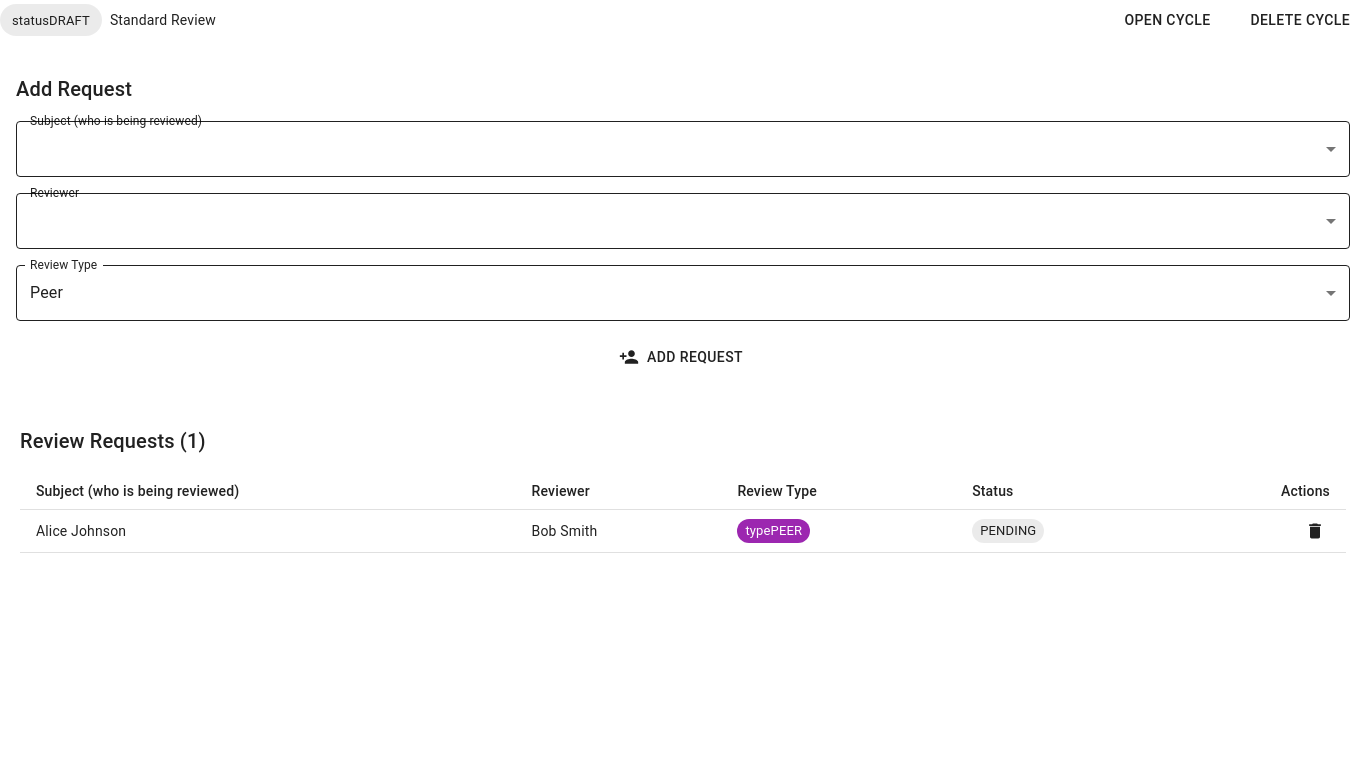
ReviewCycleDetailClient › opens open cycle confirm dialog
Click the button "Open Cycle". click: x=1167, y=20
box: left=1108, top=0, right=1226, bottom=40
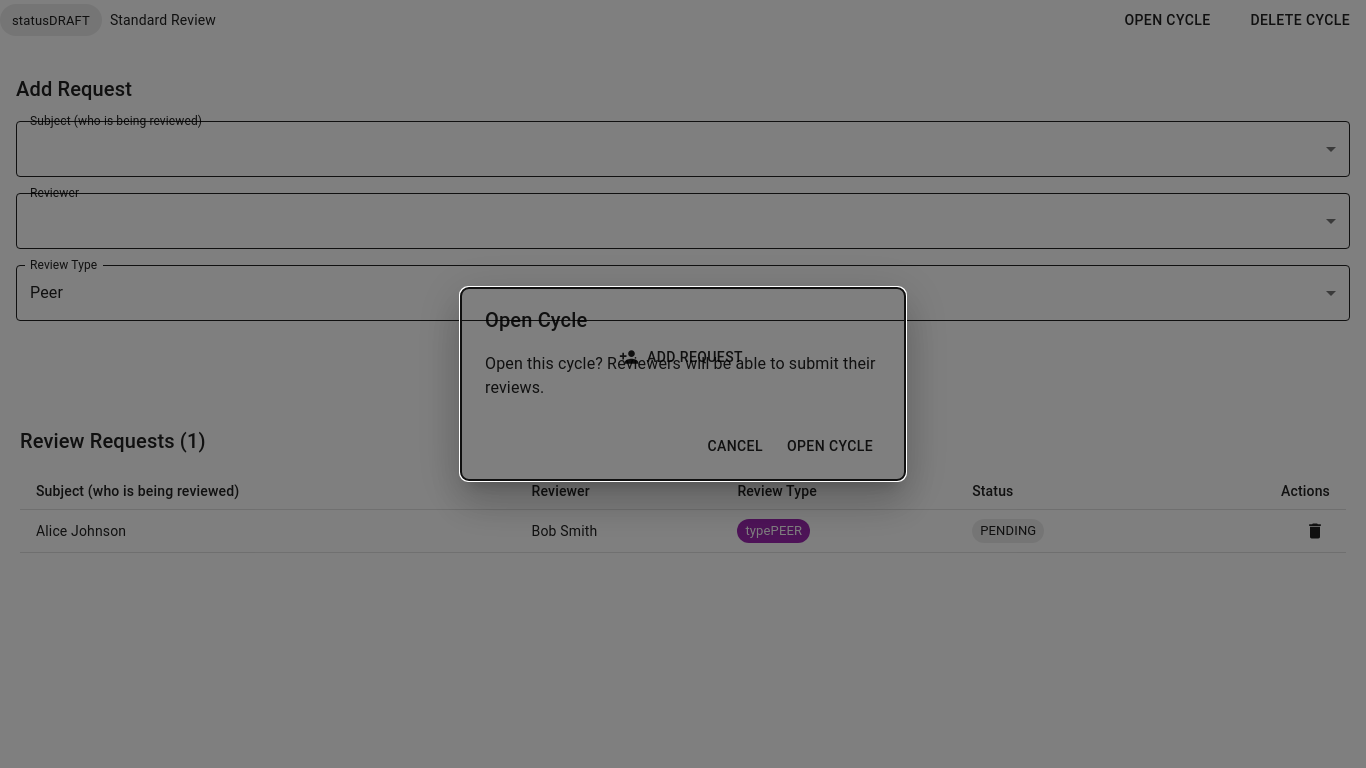
Check: the text "Open this cycle? Reviewers will be able to submit their reviews." is shown, box left=485, top=352, right=881, bottom=400
